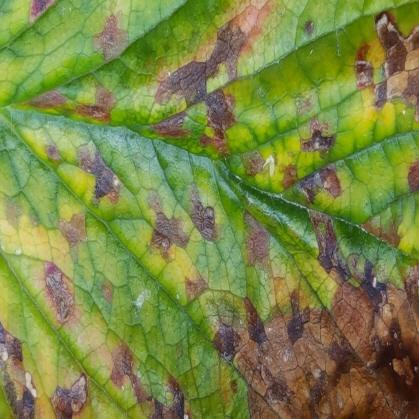Angular Leafspot: (0, 0, 418, 418)
